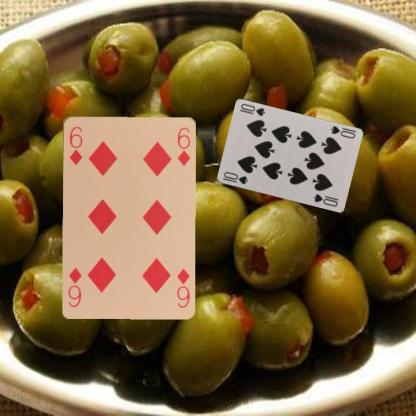10s: (328, 123, 356, 140), (221, 170, 249, 186)
6d: (66, 124, 84, 166), (174, 266, 191, 309)
